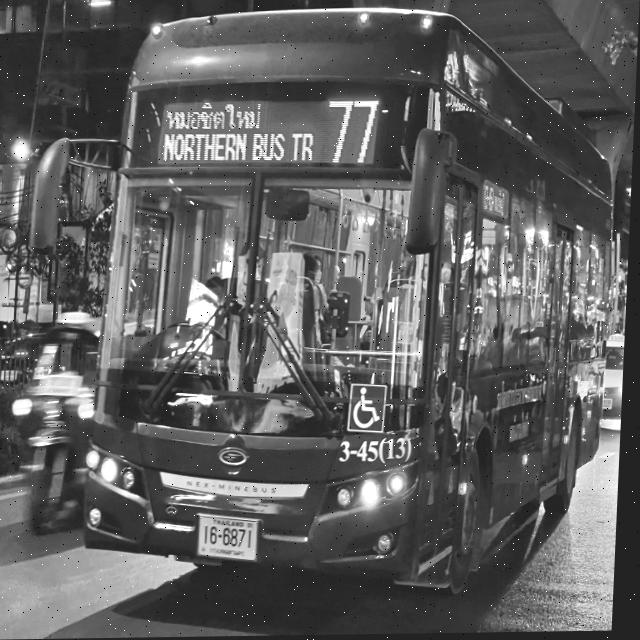Bus Line Number: (319, 88, 389, 176)
Bus Side Number: (339, 434, 422, 468)
Destination Sign: (157, 90, 320, 172)
TSB-Bus: (78, 0, 630, 612)
